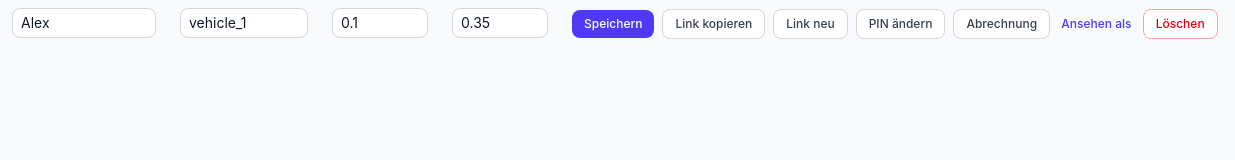
Test: AdminFriendRow › shows an error message when saving fails
Click the button "Speichern" at (613, 24), box left=572, top=10, right=654, bottom=38
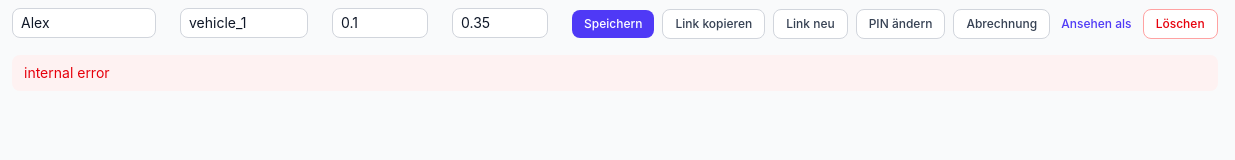
Check: the text "internal error" is shown, box left=12, top=55, right=1218, bottom=91
